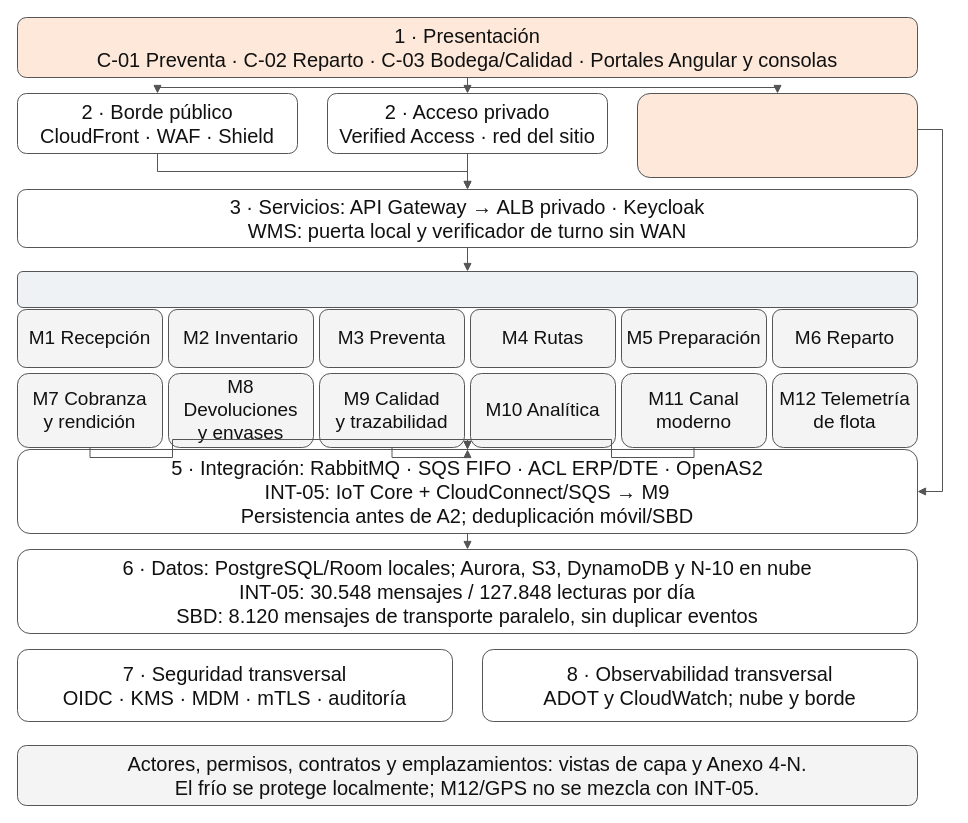
The diagram is 968 pixels wide and 823 high, and some of its shapes have lost their labels. The centre of each missing label's shape, as x and y in pixels:
2 · Frío local B-02/B-04 · C-02/B-08 Móvil + Iridium SBD: point (777, 135)
4 · Negocio: Laravel/PHP; perfiles de ejecución y reversión independientes: point (467, 289)
